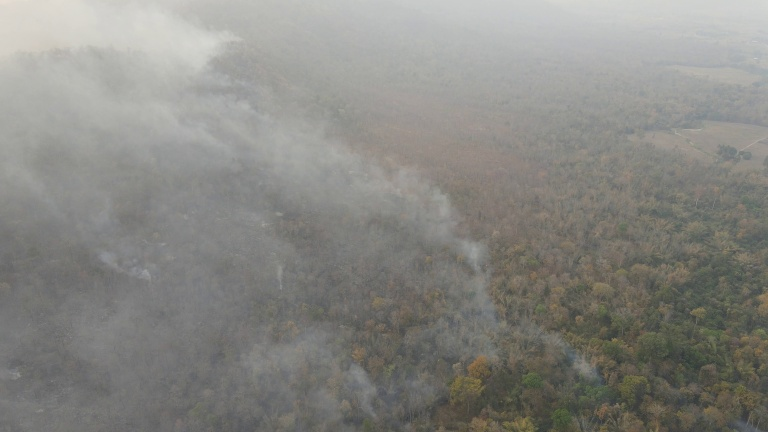smoke: (1, 1, 501, 428), (523, 323, 608, 388)
